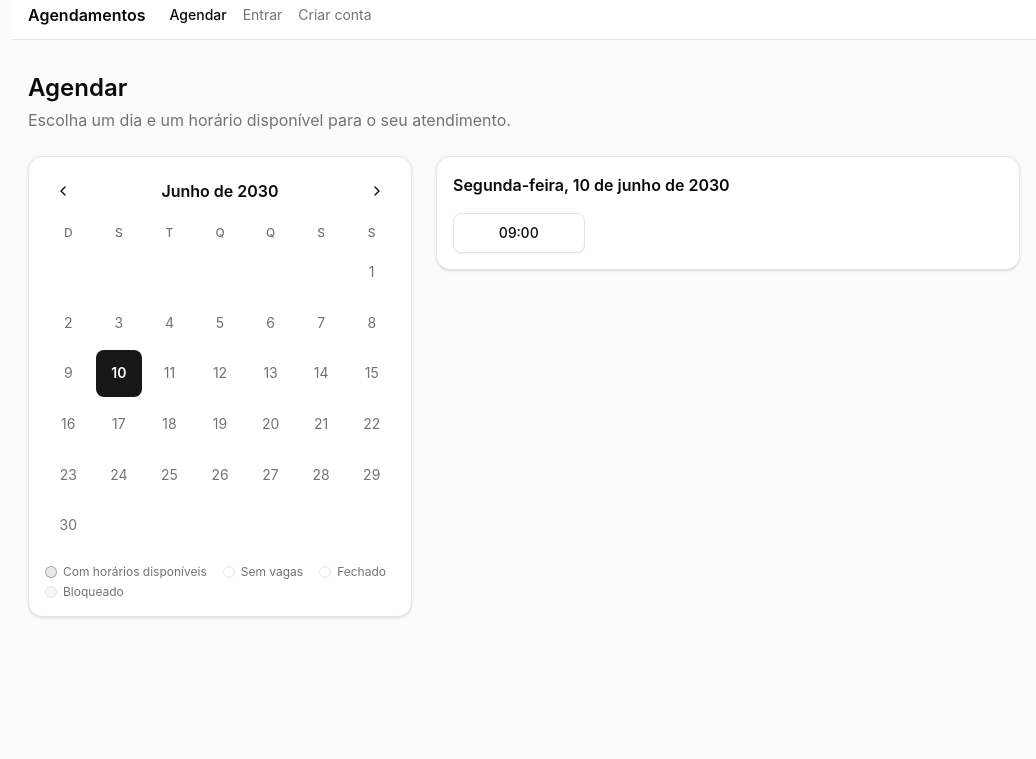
/agendar as a visitor › sends the visitor to the login with a redirect back to the chosen slot
Click the button "09:00": (519, 233) [453, 213, 584, 253]
(page scrolled)
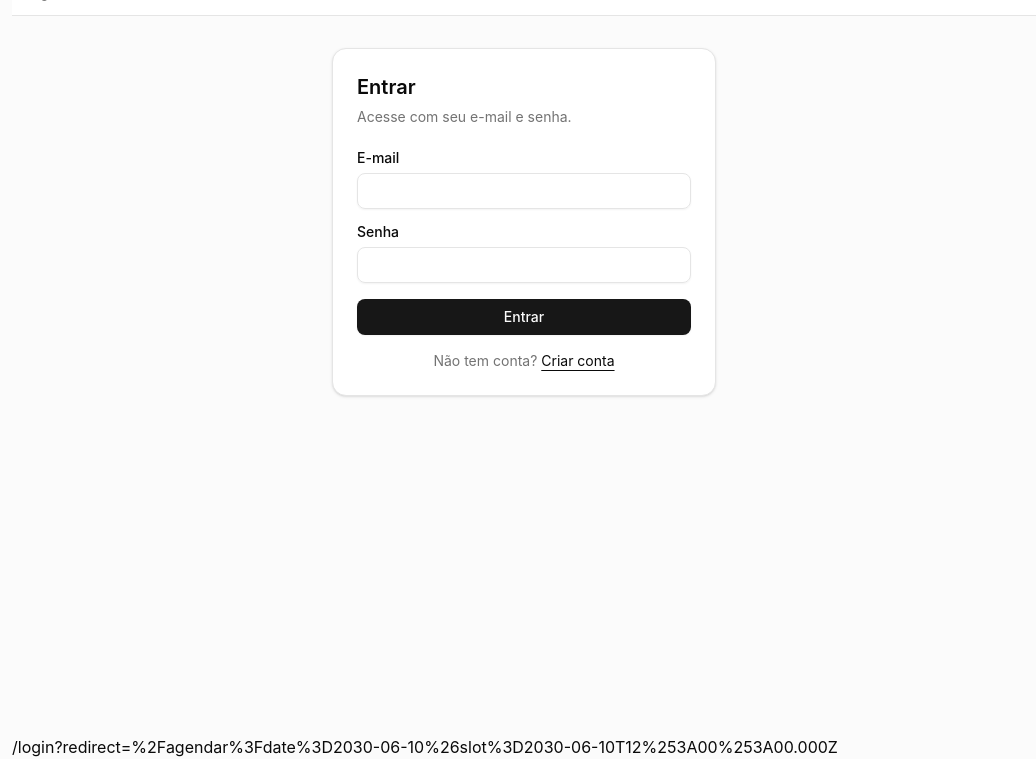
Expected: the text "Acesse com seu e-mail e senha." is shown, [357, 108, 572, 125]
Expected: the text with test id "location" shows "/login?redirect=%2Fagendar%3Fdate%3D2030-06-10%26slot%3D2030-06-10T12%253A00%253A00.000Z", [12, 737, 838, 757]
